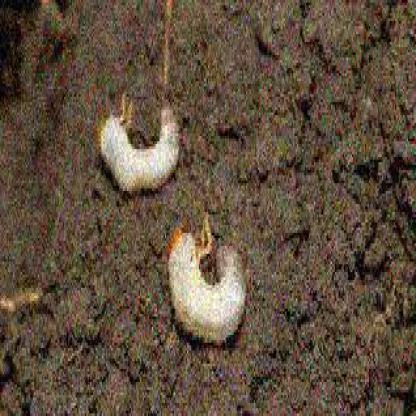root grubs: (168, 227, 248, 349), (100, 105, 182, 196)
